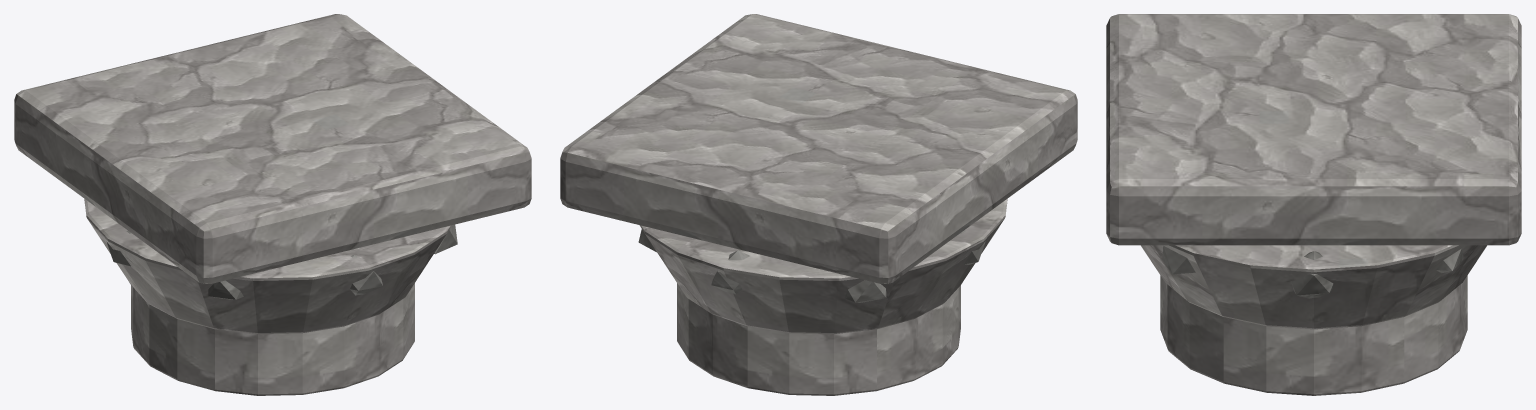
The model's file is column_capital__cut_marble.glb.
3 views of the same model, side by side, from view 1: azimuth 30°, elevation 25°; view 2: azimuth 150°, elevation 25°; view 3: azimuth 270°, elevation 25° (orthographic). The views are drawn at different scales.
Parts seen in each view (by area): view 1: model; view 2: model; view 3: model.
Boxes of the visible parts, left/top/right/bottom form: model: left=14, top=14, right=531, bottom=395; model: left=560, top=14, right=1077, bottom=395; model: left=1106, top=14, right=1521, bottom=395.
Bounding box in the file's own units: 0.8 × 0.5 × 0.8.
Materials: 2 (2 with a texture image).
